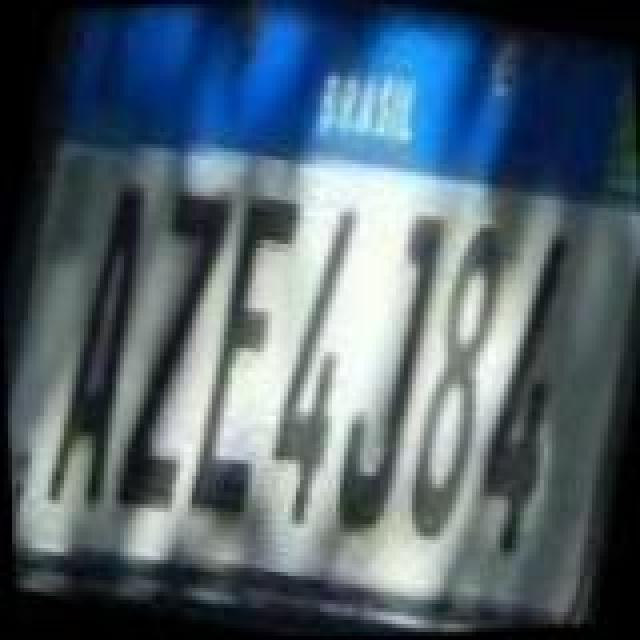4: (454, 226, 594, 562), (244, 200, 380, 528)
8: (382, 214, 522, 550)
A: (28, 172, 168, 512)
E: (172, 182, 316, 522)
J: (316, 204, 460, 544)
Z: (100, 184, 244, 520)
